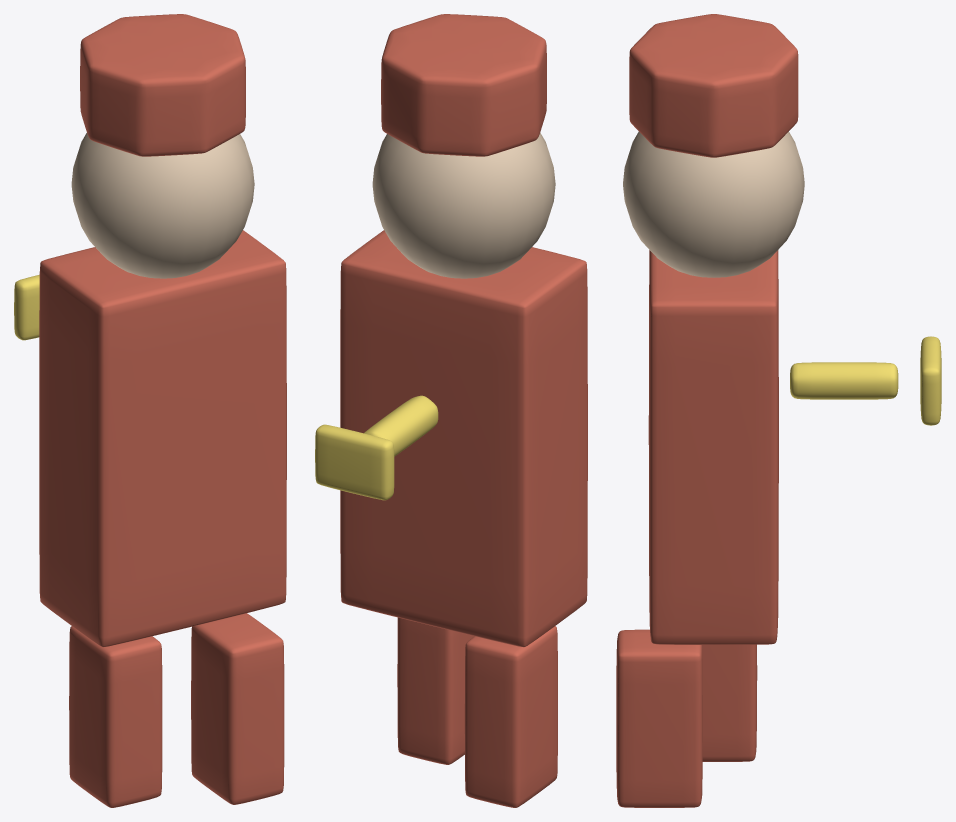
The model's file is windup_soldier.glb.
3 renders of one model, left to right at view 1: azimuth 30°, elevation 25°; view 2: azimuth 150°, elevation 25°; view 3: azimuth 270°, elevation 25°, orthographic.
Parts seen in each view (by area): view 1: windup_soldier; view 2: windup_soldier; view 3: windup_soldier.
Boxes of the visible parts, left/top/right/bottom form: windup_soldier: left=14, top=14, right=286, bottom=807; windup_soldier: left=315, top=14, right=587, bottom=807; windup_soldier: left=616, top=14, right=941, bottom=807.
Bounding box in the file's own units: 0.1998 × 0.7398 × 0.2998.
